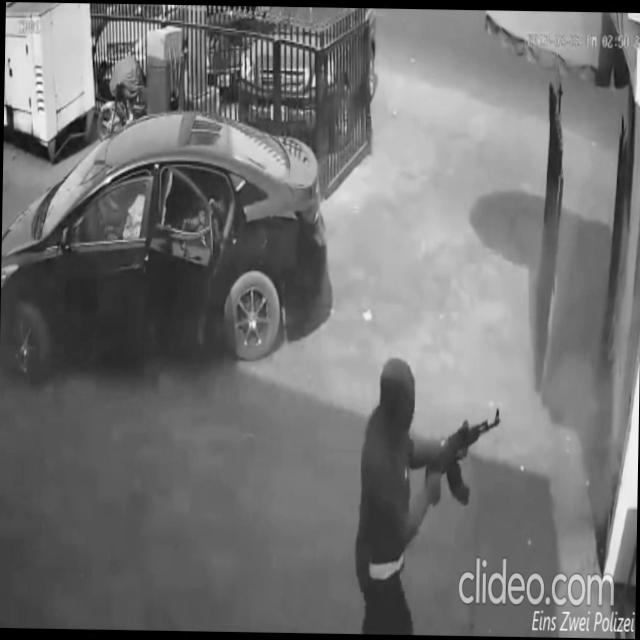gun: (426, 404, 502, 509), (185, 195, 228, 234)
person with a gun: (352, 354, 502, 634), (177, 188, 230, 235)
